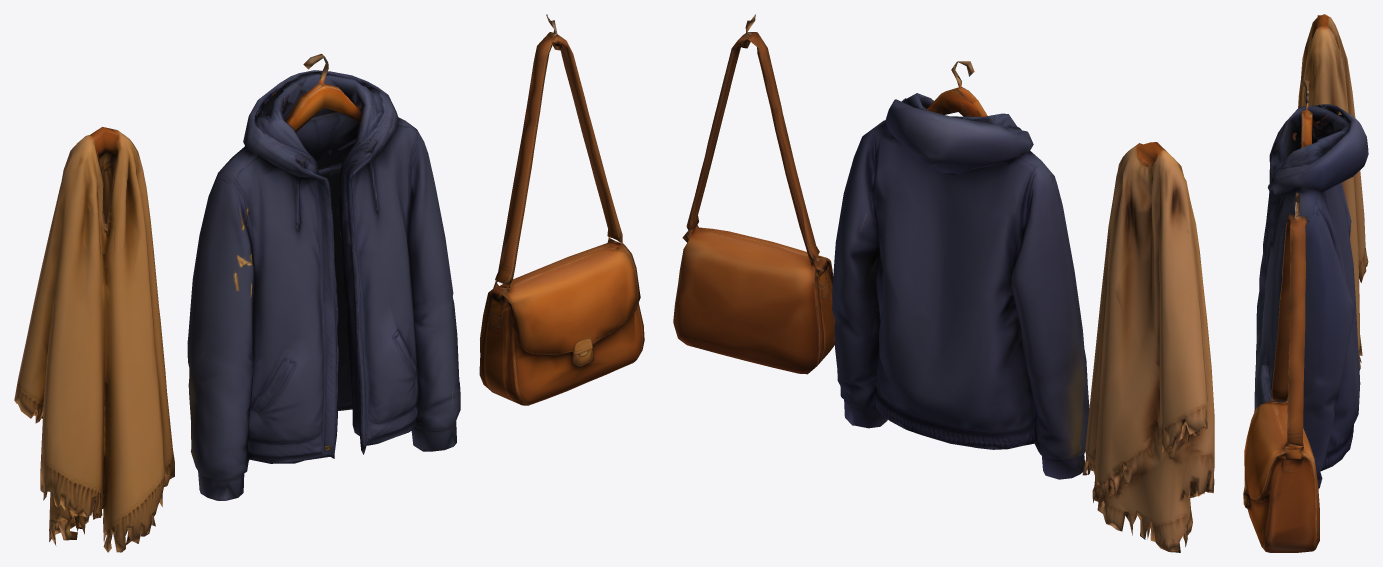
Rendered from Meshy_AI_kıyafet_0108003434_texture.fbx.
The picture shows the model from 3 angles, left to right: view 1: azimuth 30°, elevation 25°; view 2: azimuth 150°, elevation 25°; view 3: azimuth 270°, elevation 25°; orthographic projection. The views are drawn at different scales.
Parts seen in each view (by area): view 1: Mesh_0; view 2: Mesh_0; view 3: Mesh_0.
Part boxes in pixels (box(x1,y1,x2,y2)): Mesh_0: box(14, 14, 644, 552); Mesh_0: box(673, 14, 1214, 552); Mesh_0: box(1243, 14, 1368, 552).
Bounding box in the file's own units: 191 × 141 × 38.24.
Materials: 1 (1 with a texture image).
